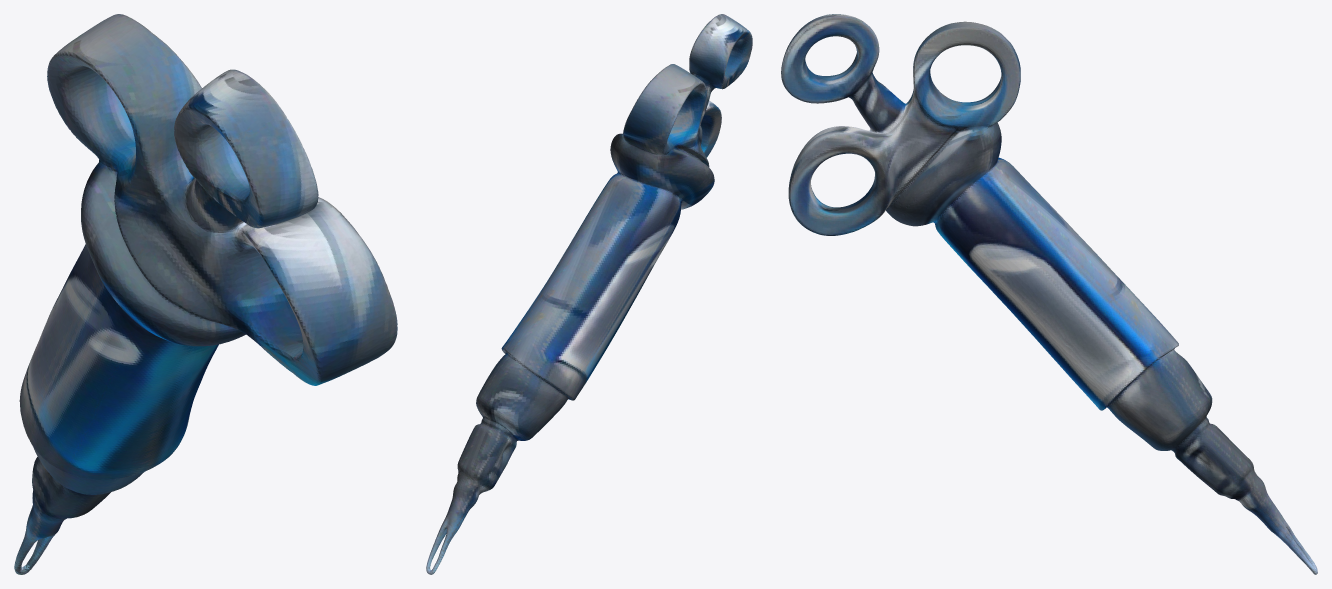
Rendered from planet_vaccine.glb.
3 renders of one model, left to right at view 1: azimuth 30°, elevation 25°; view 2: azimuth 150°, elevation 25°; view 3: azimuth 270°, elevation 25°, orthographic. The views are drawn at different scales.
Size of the model in its own units: 0.6378 by 2 by 1.9.
Materials: 1 (1 with a texture image).
